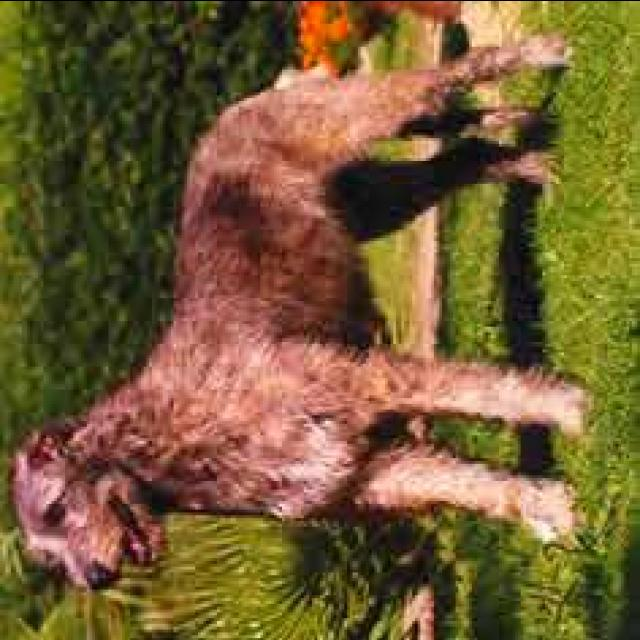irish_wolfhound: (13, 29, 586, 592)
